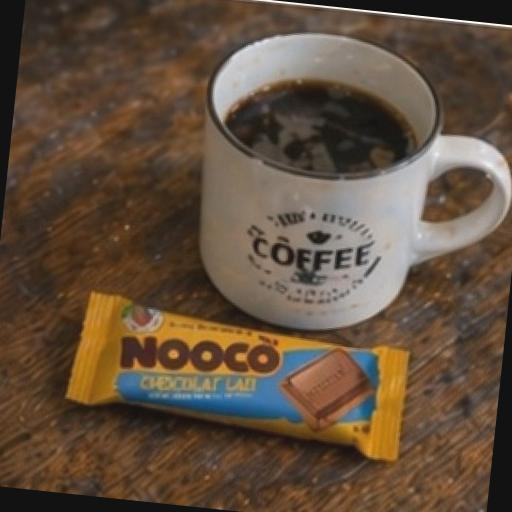nooco: (48, 246, 429, 496)
